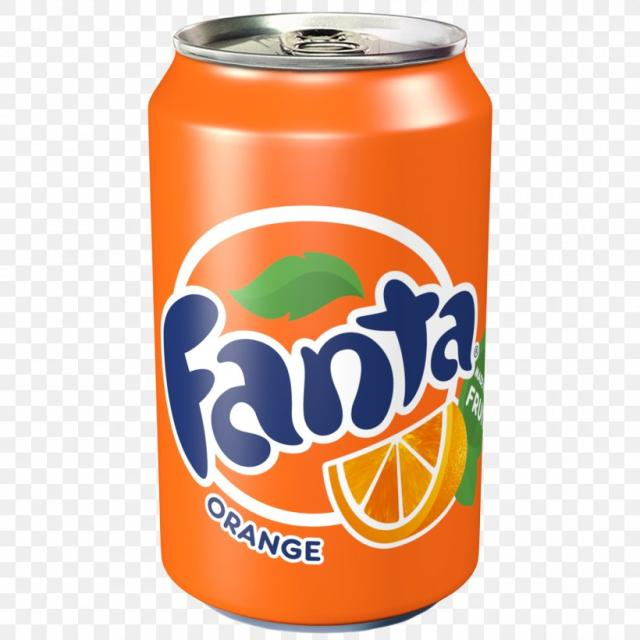fanta: (143, 20, 491, 628)
